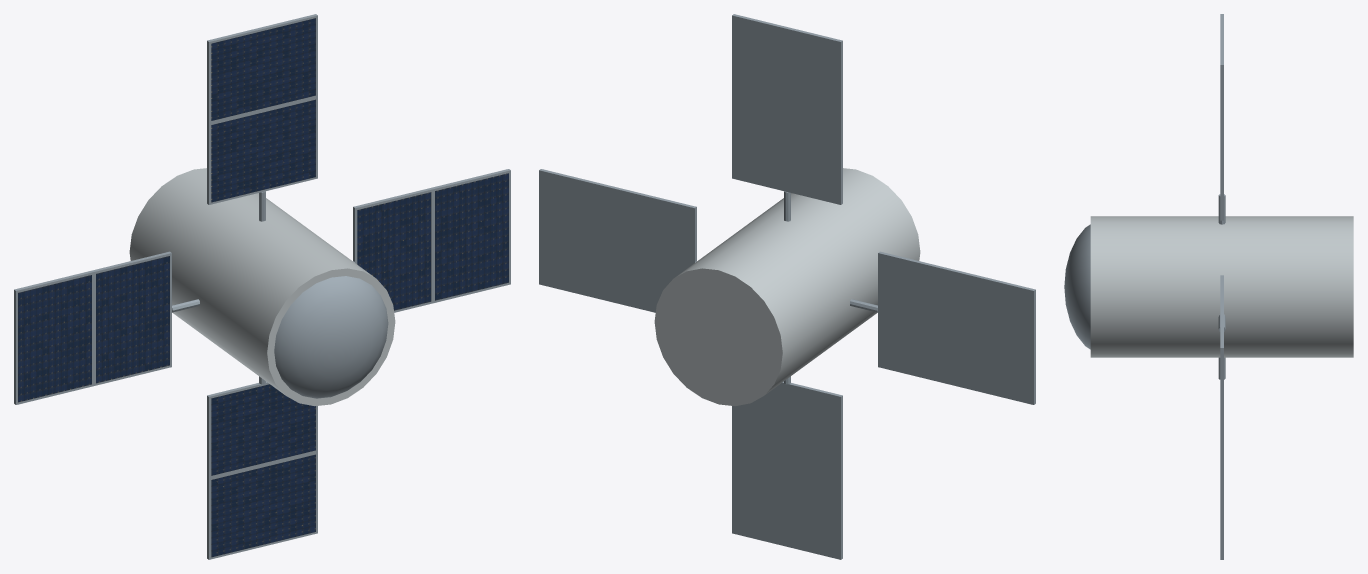
The model's file is ref-uk-6-11382.glb.
The picture shows the model from 3 angles, left to right: view 1: azimuth 30°, elevation 25°; view 2: azimuth 150°, elevation 25°; view 3: azimuth 270°, elevation 25°; orthographic projection. The views are drawn at different scales.
Parts seen in each view (by area): view 1: Photovoltaic laminates (×8), Spacecraft body, Dome, Array frame (×8); view 2: Array frame (×8), Spacecraft body; view 3: Spacecraft body, Dome, Array frame (×2).
Part boxes in pixels (x1=…): Photovoltaic laminates (×8): x1=18, y1=18, x2=508, y2=557; Spacecraft body: x1=129, y1=168, x2=395, y2=406; Dome: x1=274, y1=276, x2=388, y2=398; Array frame (×8): x1=14, y1=14, x2=510, y2=559; Array frame (×8): x1=539, y1=14, x2=1035, y2=559; Spacecraft body: x1=654, y1=168, x2=920, y2=406; Spacecraft body: x1=1090, y1=216, x2=1353, y2=357; Dome: x1=1064, y1=224, x2=1090, y2=349; Array frame (×2): x1=1220, y1=14, x2=1223, y2=456.
Bounding box in the file's own units: 2.7 × 2.7 × 1.43.
3 materials, 1 textured.
